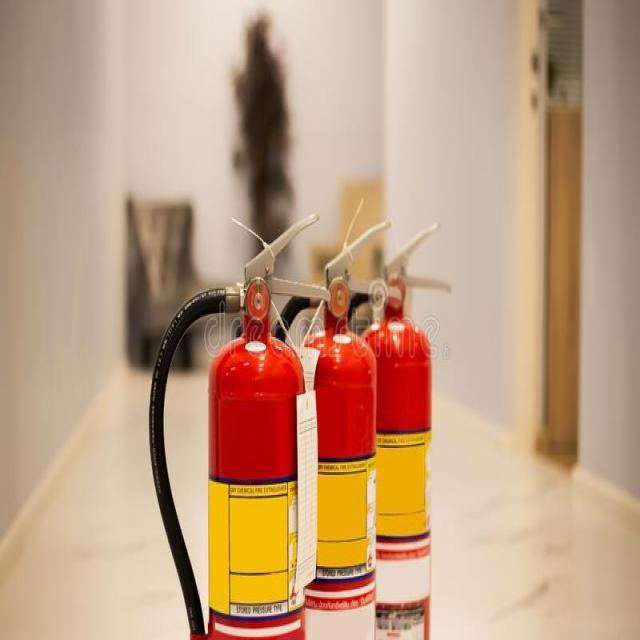fire_extinguisher: (146, 204, 335, 638), (253, 212, 403, 638), (308, 216, 456, 639)
